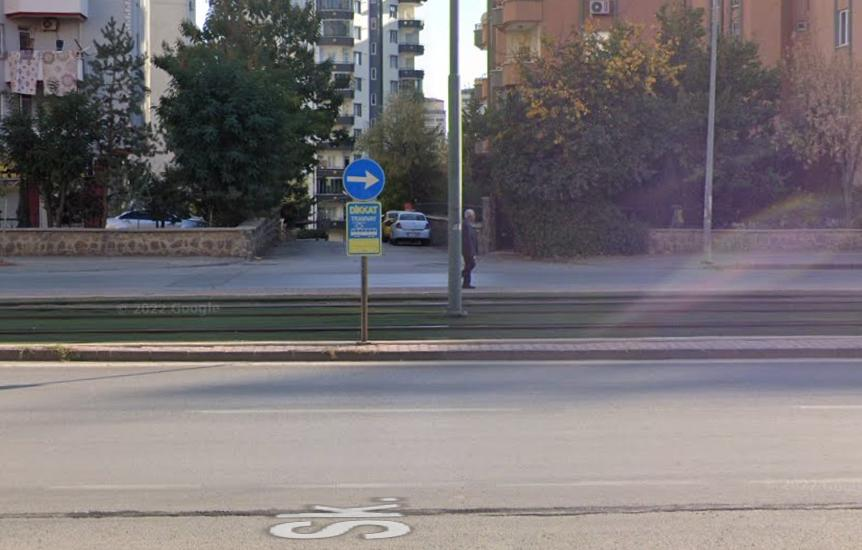turnright: (344, 159, 385, 200)
